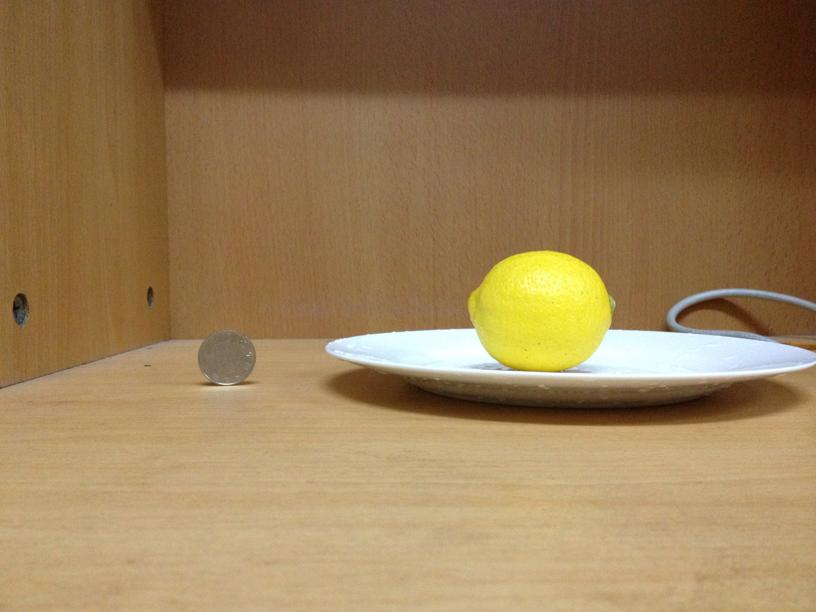coin: (197, 328, 255, 387)
lemon: (465, 249, 614, 372)
